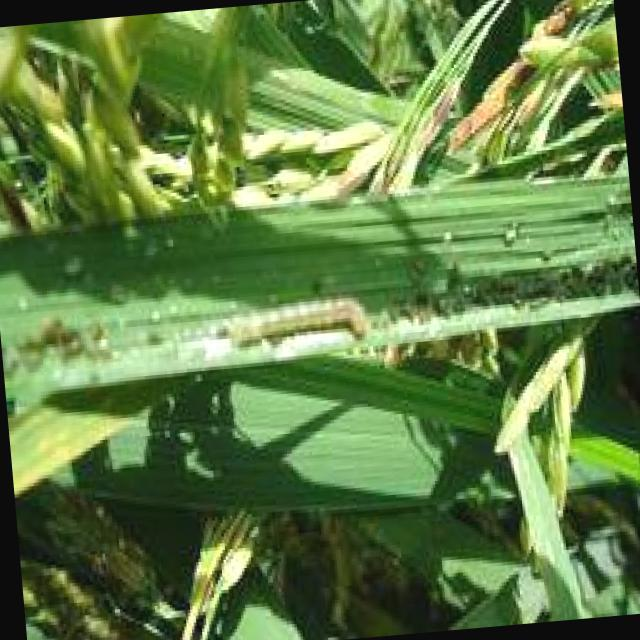leaf folder: (217, 298, 367, 346)
